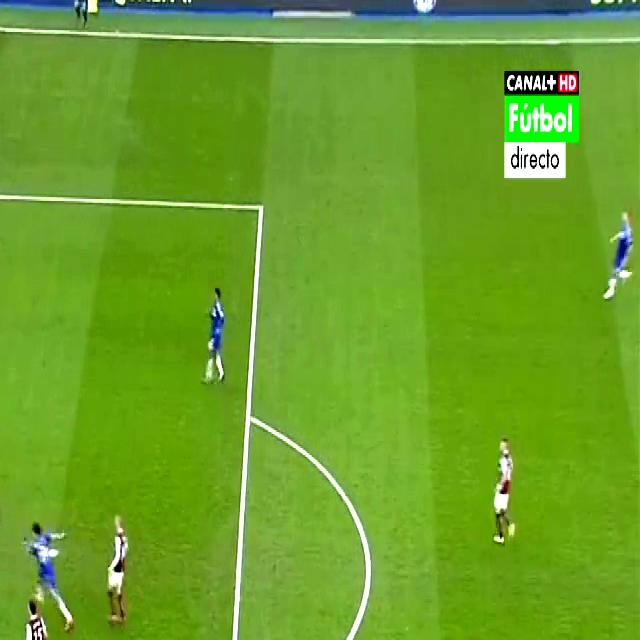soccer-player: (21, 512, 80, 632), (95, 506, 134, 640), (486, 423, 524, 549), (601, 198, 637, 310), (199, 271, 231, 395), (18, 606, 54, 640), (0, 434, 7, 526)
